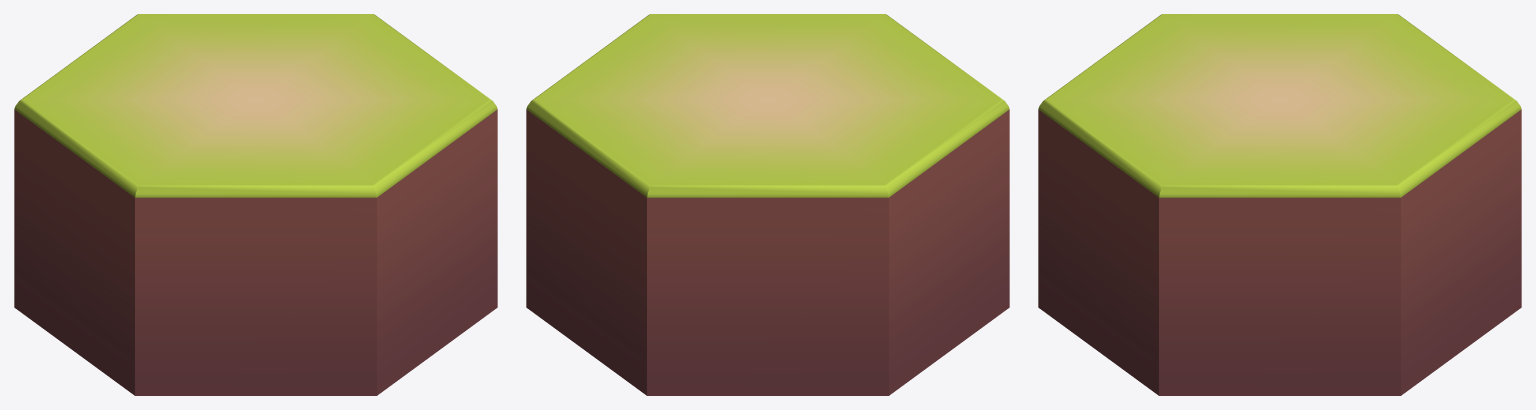
The model's file is new_grass.fbx.
The picture shows the model from 3 angles, left to right: view 1: azimuth 30°, elevation 25°; view 2: azimuth 150°, elevation 25°; view 3: azimuth 270°, elevation 25°; orthographic projection.
Visible parts, largest first — view 1: hexagon_grass5; view 2: hexagon_grass5; view 3: hexagon_grass5.
Boxes of the visible parts, bbox=[...] form: hexagon_grass5: bbox=[14, 14, 497, 395]; hexagon_grass5: bbox=[526, 14, 1009, 395]; hexagon_grass5: bbox=[1038, 14, 1521, 395].
Bounding box in the file's own units: 366 × 201 × 423.
1 material, 1 textured.
